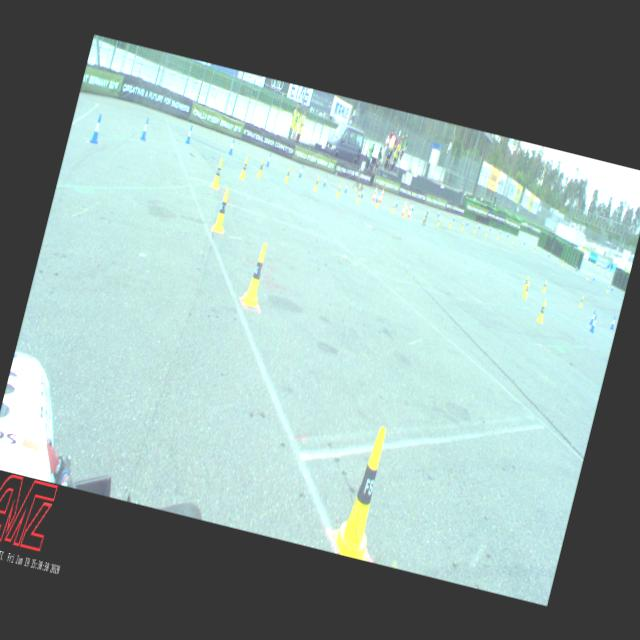blue_cone: (89, 113, 104, 144), (139, 116, 151, 140), (184, 124, 193, 144), (588, 314, 597, 333), (228, 139, 235, 155), (609, 316, 616, 330), (589, 310, 595, 324), (265, 153, 271, 166), (298, 165, 304, 178), (323, 175, 328, 186), (344, 182, 348, 194), (360, 188, 364, 198), (375, 192, 379, 202)
large_orange_cone: (406, 202, 414, 218), (401, 198, 408, 216), (372, 185, 378, 201), (378, 186, 384, 202)
yellow_cone: (328, 422, 399, 561), (240, 241, 272, 307), (212, 188, 232, 232), (210, 158, 224, 188), (536, 299, 548, 323), (238, 156, 250, 179), (256, 158, 265, 178), (522, 280, 530, 298), (284, 166, 292, 182), (523, 274, 529, 290), (314, 176, 320, 190), (336, 184, 342, 196), (578, 295, 584, 307), (542, 280, 548, 292), (375, 196, 380, 208), (403, 206, 408, 216), (356, 190, 360, 202), (436, 217, 441, 226), (391, 202, 395, 212), (421, 212, 425, 222), (606, 286, 610, 292)
